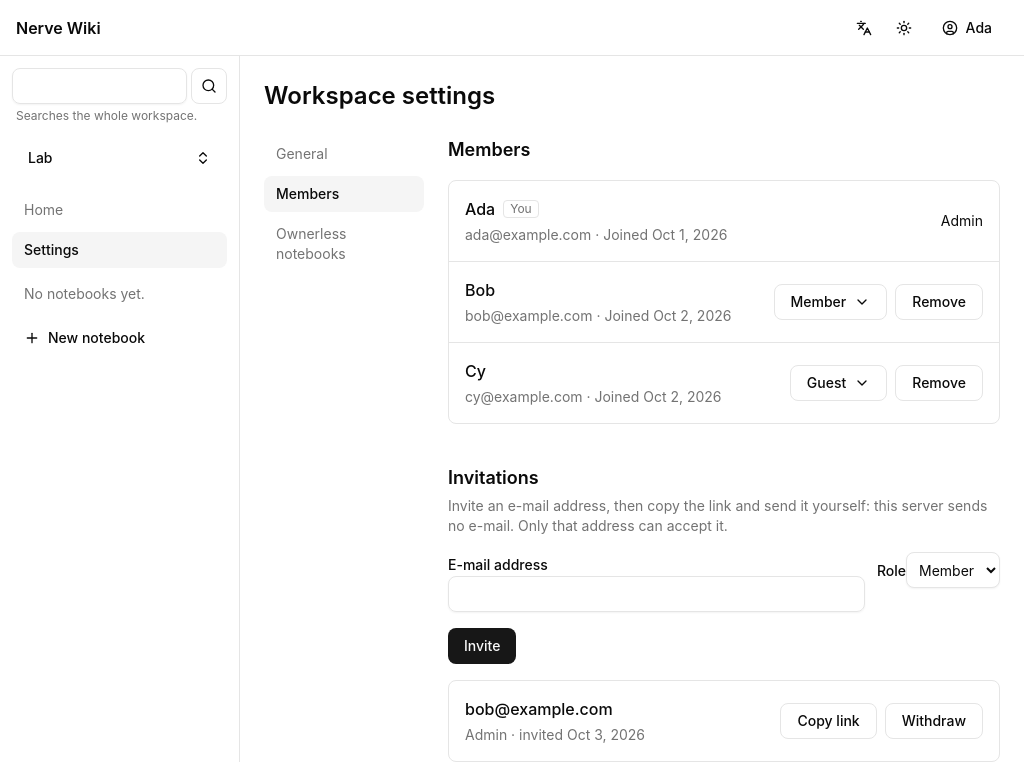
one change of role goes out at a time; a refused one leaves the role, and says why until the next
The width and height of the screenshot is (1024, 762).
Click the button "Member".
click(830, 302)  # box [774,284,887,320]
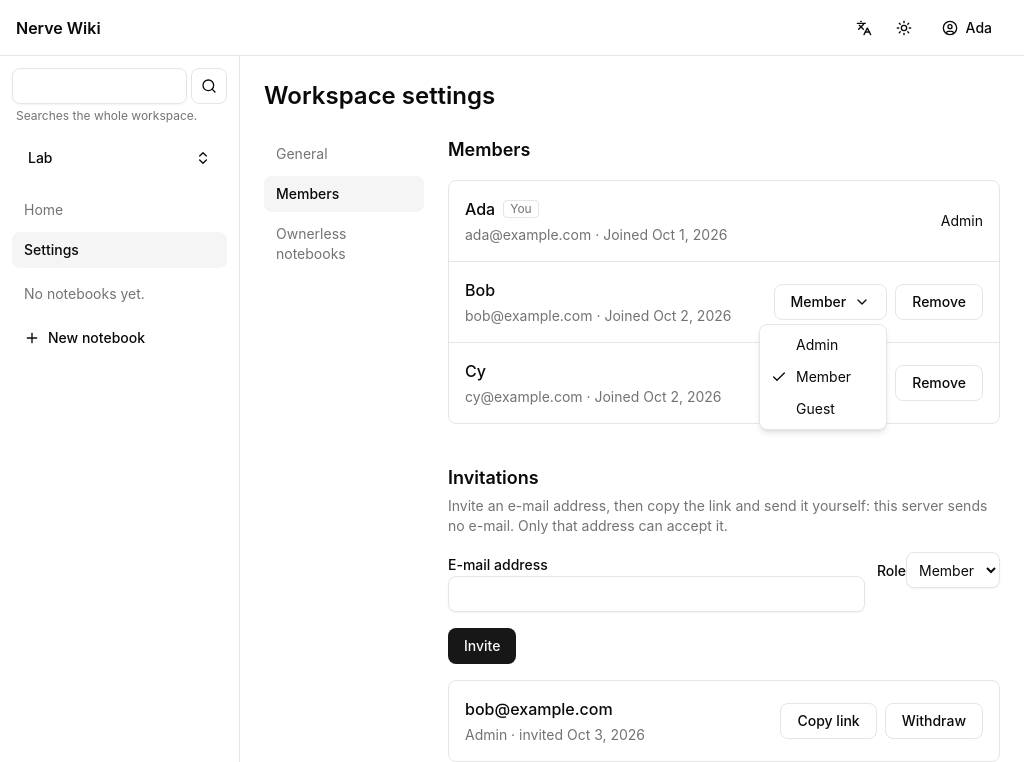
Click the menu item "Guest".
click(815, 408)  # box [796,400,835,417]
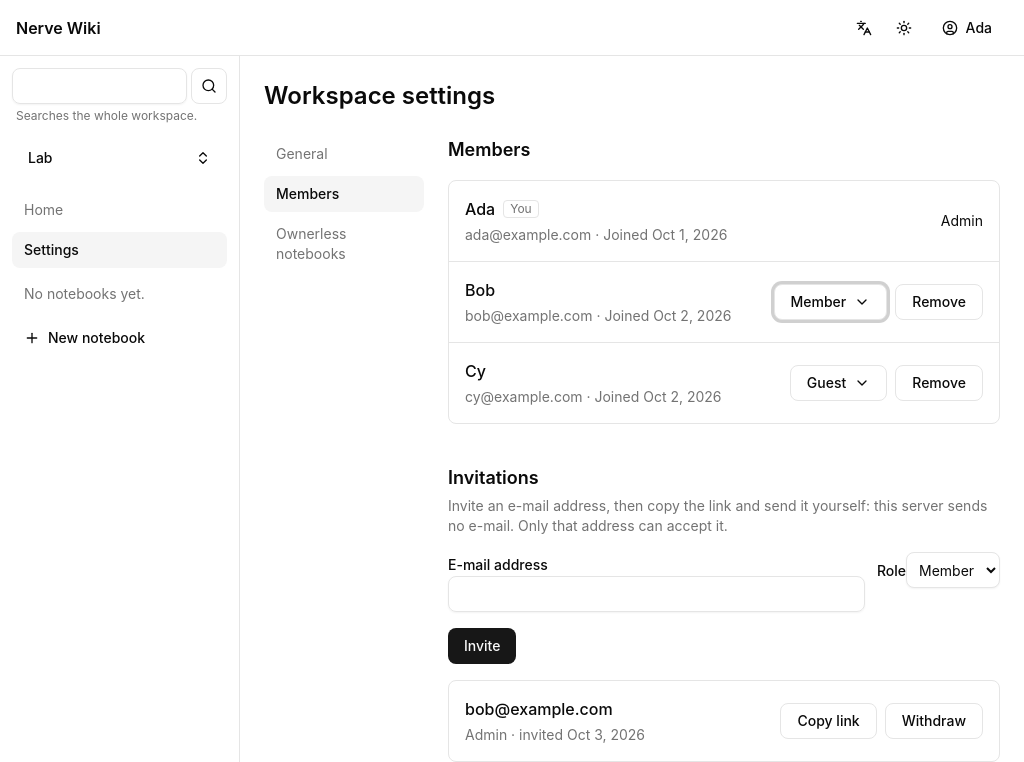
Click the button "Member".
click(830, 302)  # box [774,284,887,320]
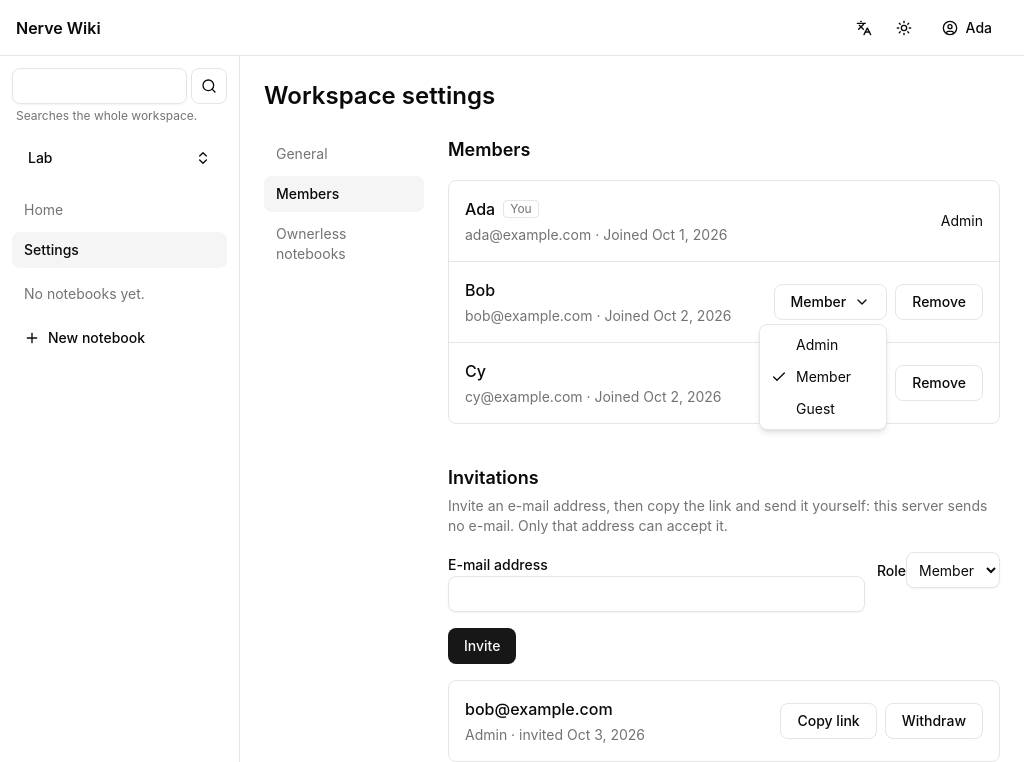
Click the menu item "Admin".
click(817, 344)  # box [796,336,838,353]
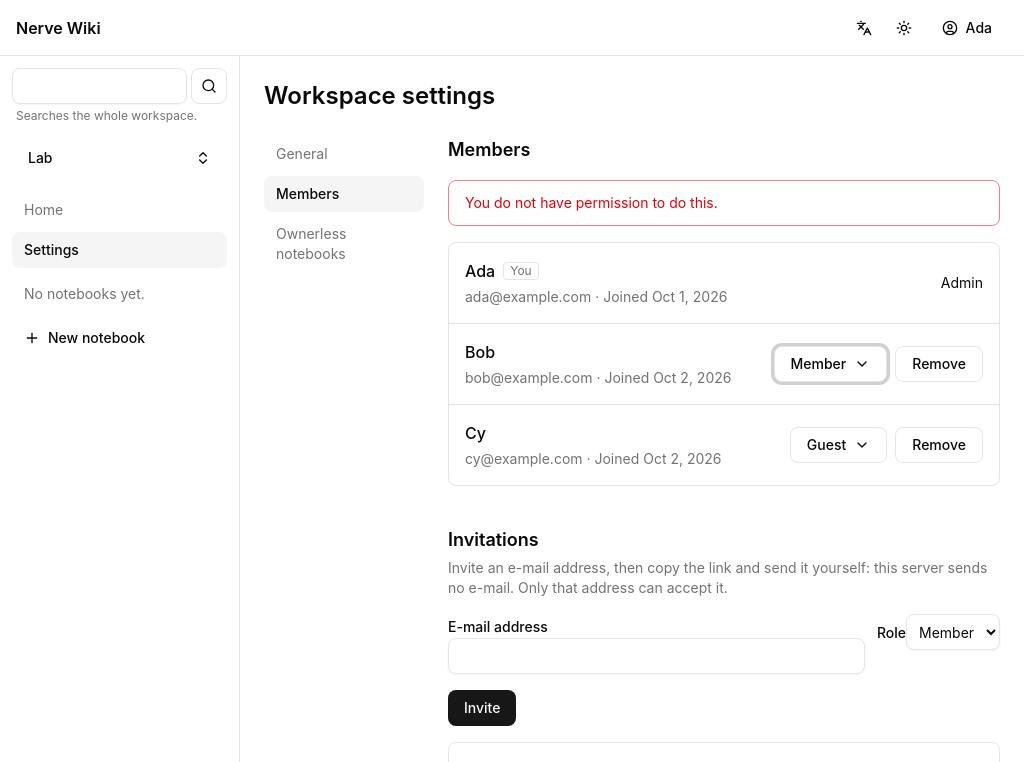
Now the message reads "You do not have permission to do this.", box [465,194,718,211]
Click the button "Member".
click(830, 364)  # box [774,346,887,382]
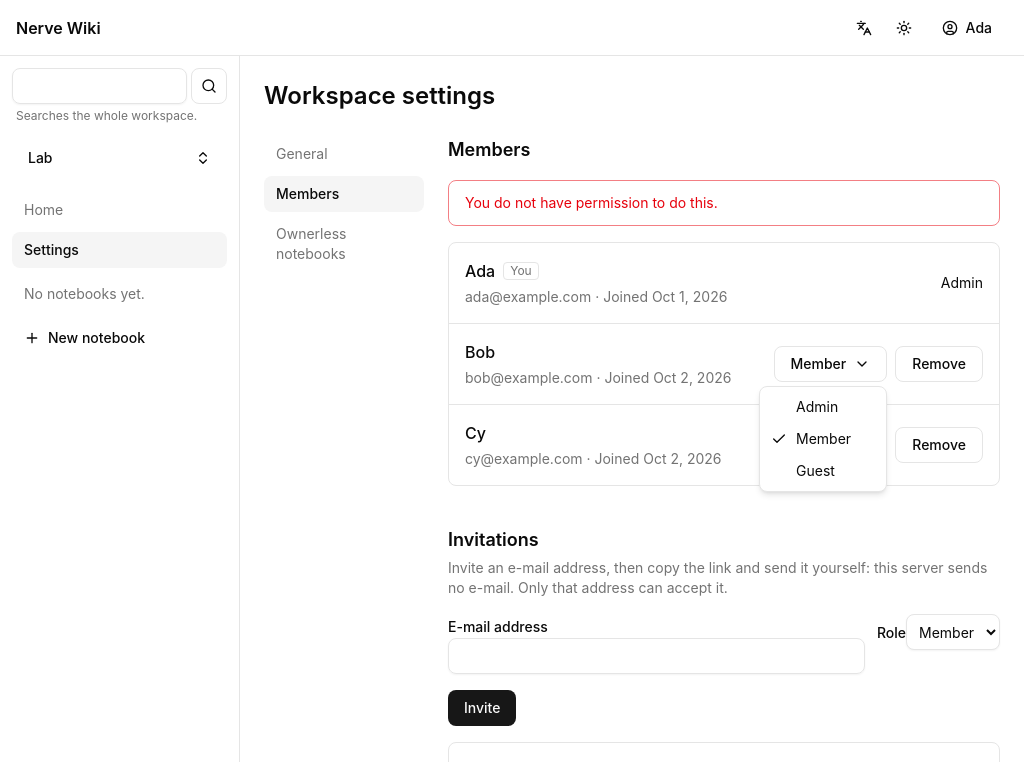
Click the menu item "Admin".
click(817, 406)  # box [796,398,838,415]
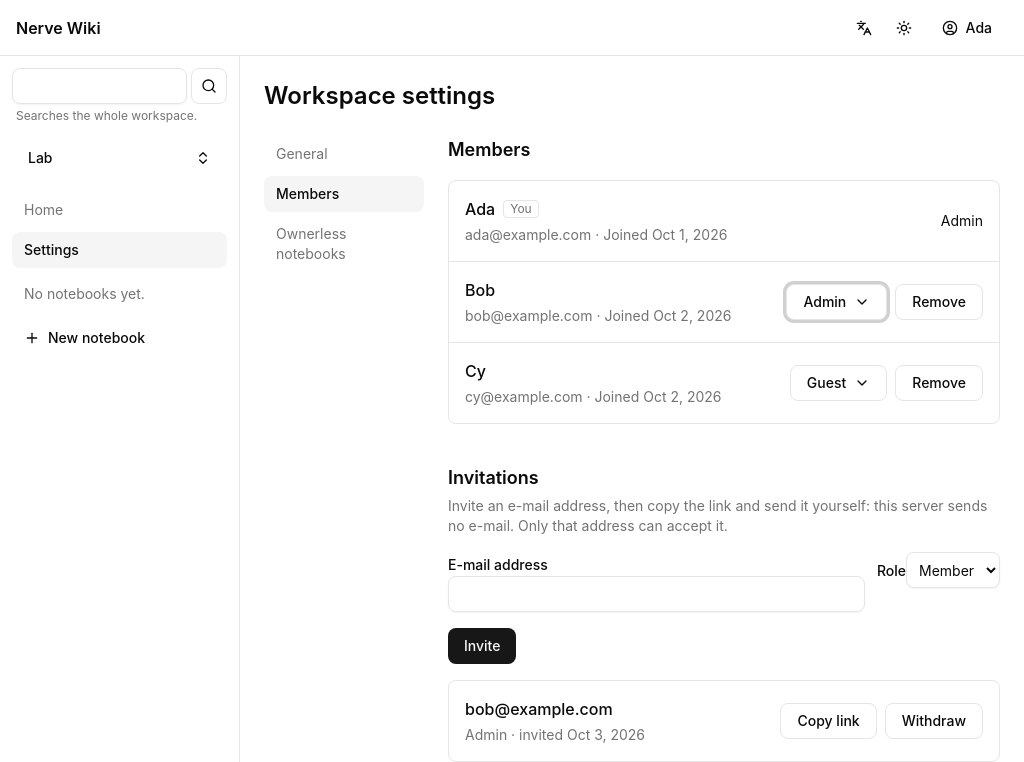
Now the message "You do not have permission to do this." is gone
